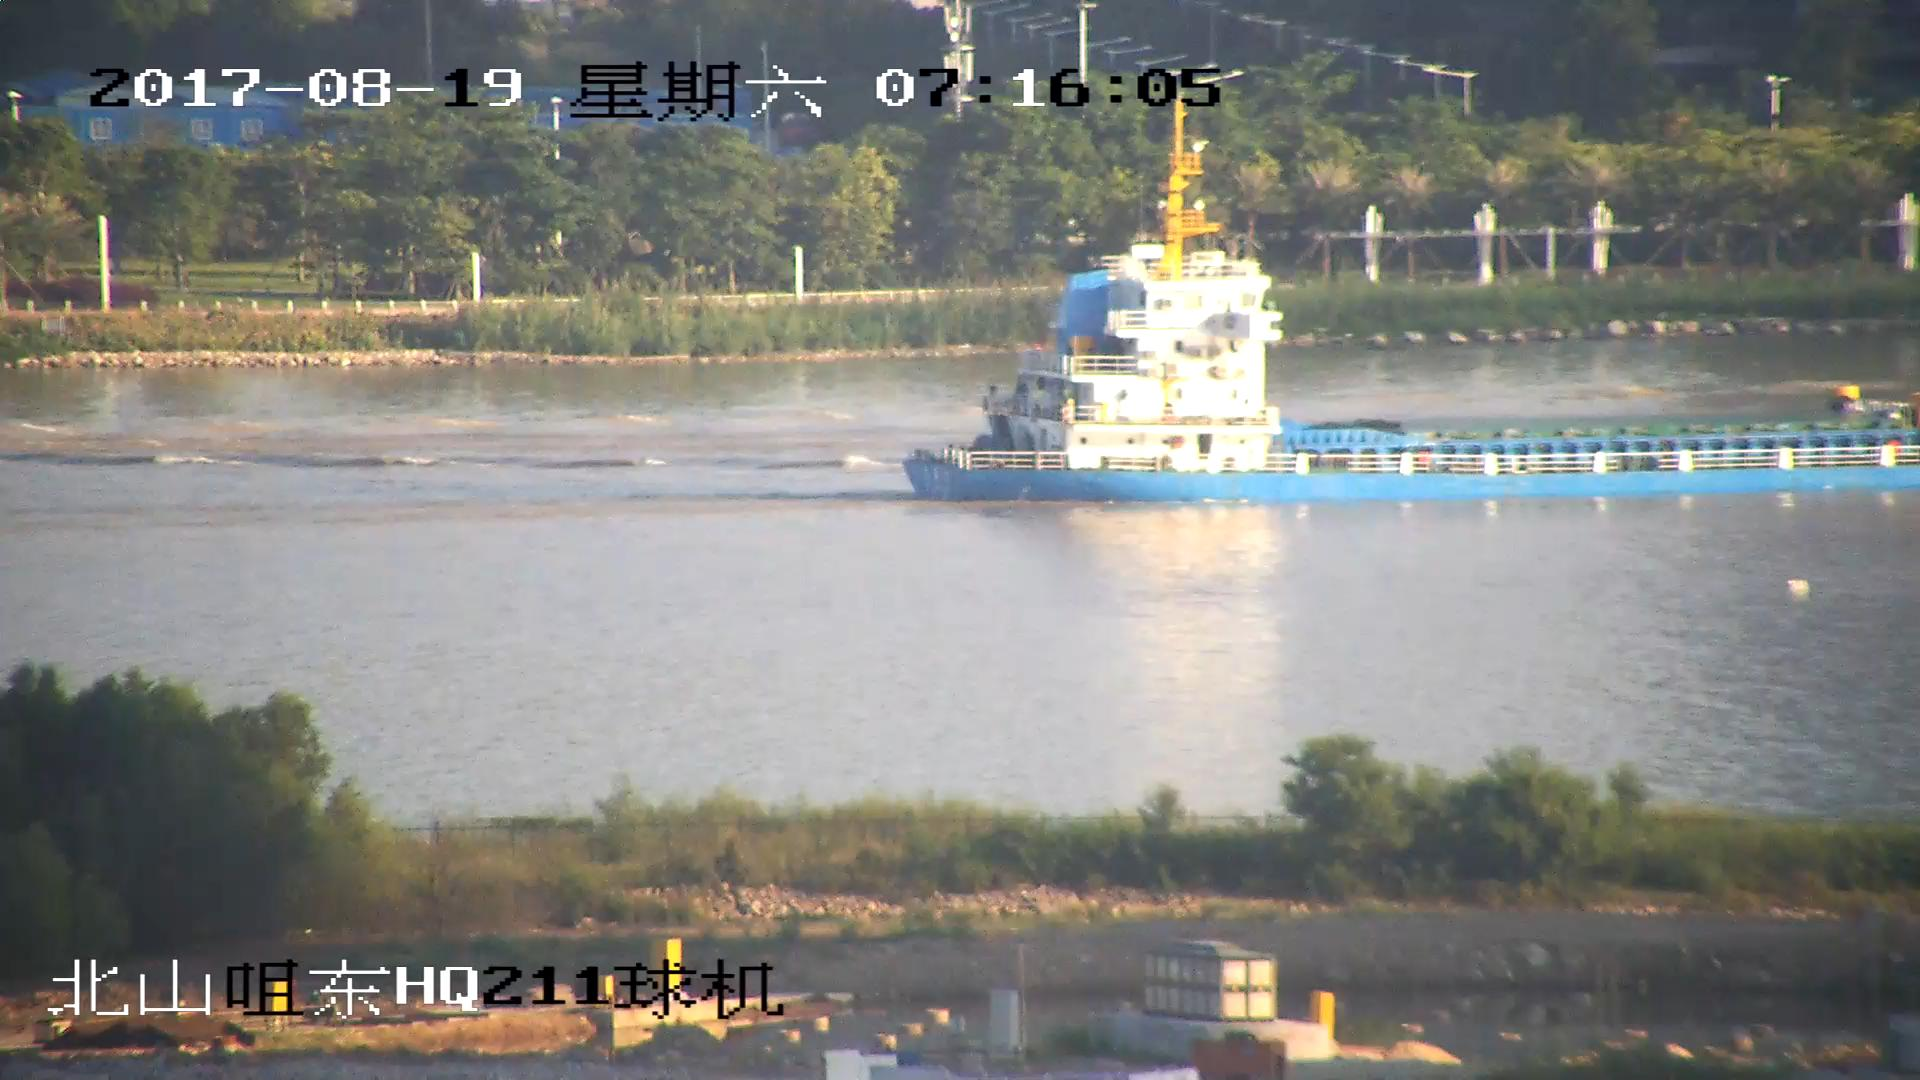general cargo ship: (903, 123, 1920, 495)
